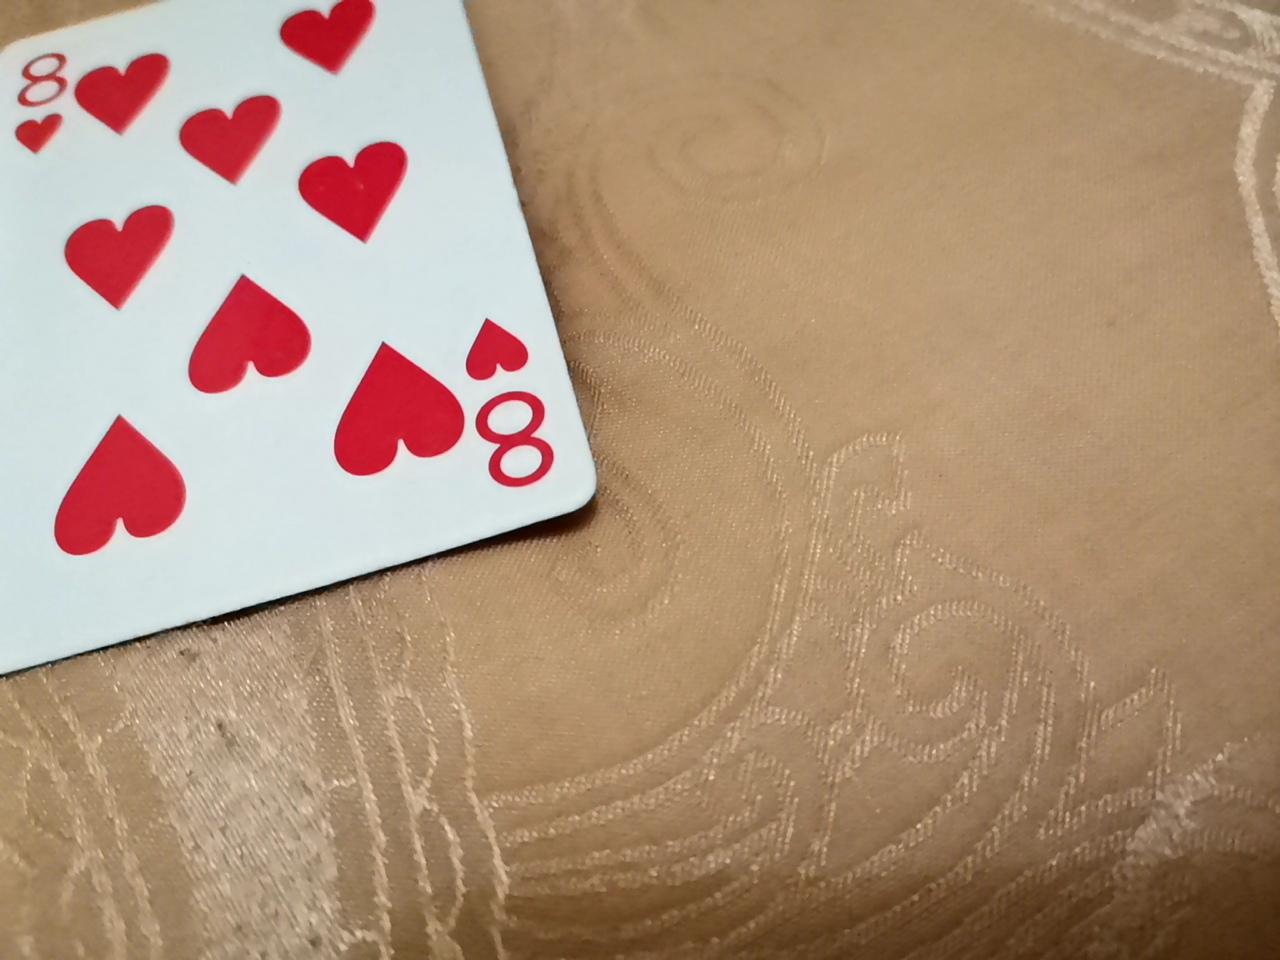hx 8: (6, 11, 595, 695)
